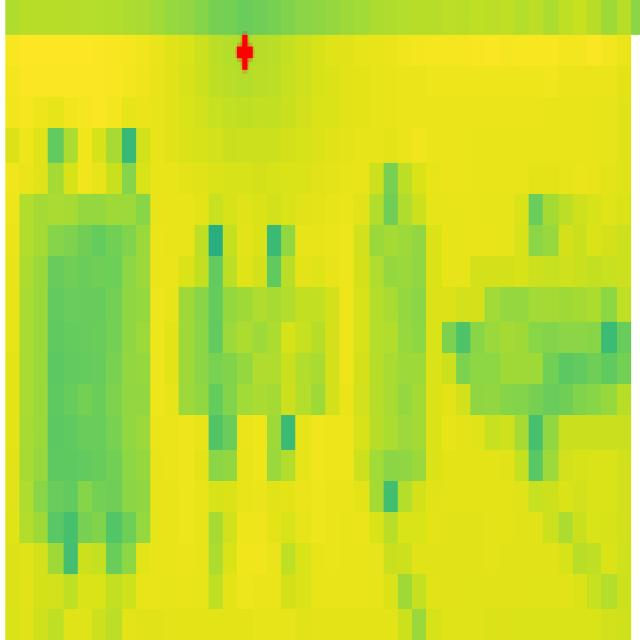Concrete: (21, 195, 153, 540)
Glass: (470, 262, 620, 418)
Metal: (179, 288, 338, 415)
Wood: (366, 222, 426, 481)
